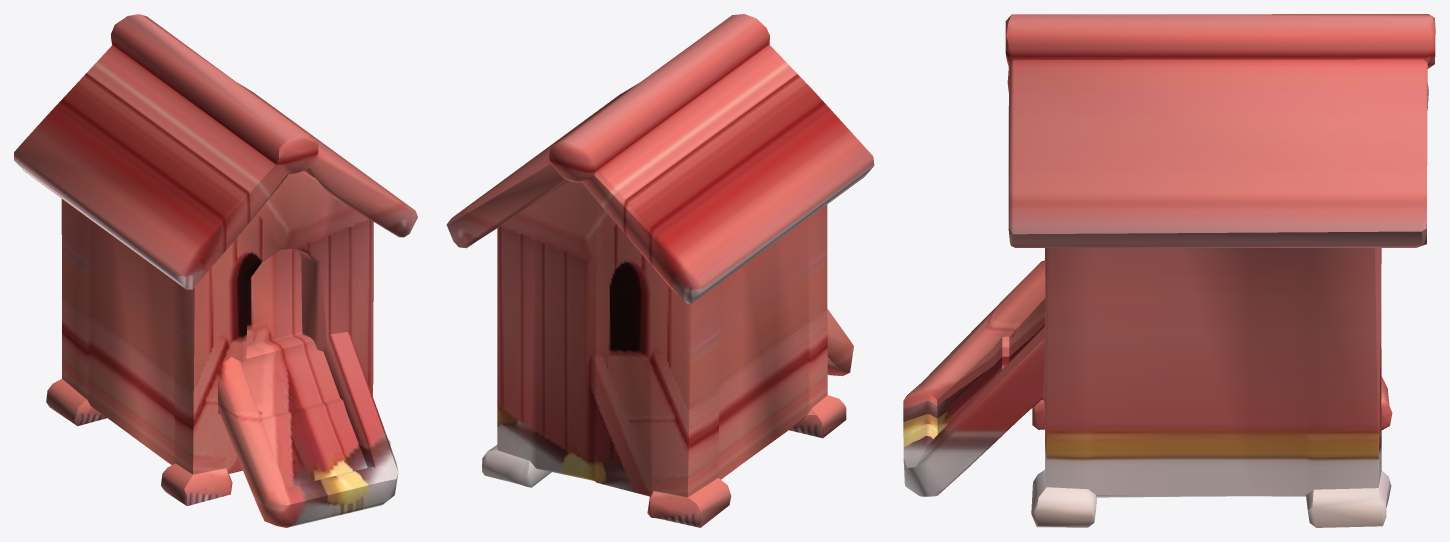
3 renders of one model, left to right at view 1: azimuth 30°, elevation 25°; view 2: azimuth 150°, elevation 25°; view 3: azimuth 270°, elevation 25°, orthographic. The views are drawn at different scales.
Visible parts, largest first — view 1: Decor_chicken_coop; view 2: Decor_chicken_coop; view 3: Decor_chicken_coop.
Boxes of the visible parts, bbox=[...] form: Decor_chicken_coop: bbox=[14, 14, 417, 527]; Decor_chicken_coop: bbox=[446, 14, 874, 527]; Decor_chicken_coop: bbox=[903, 14, 1435, 527].
Size of the model in its own units: 1 by 1.39 by 1.51.
Materials: 1 (1 with a texture image).
